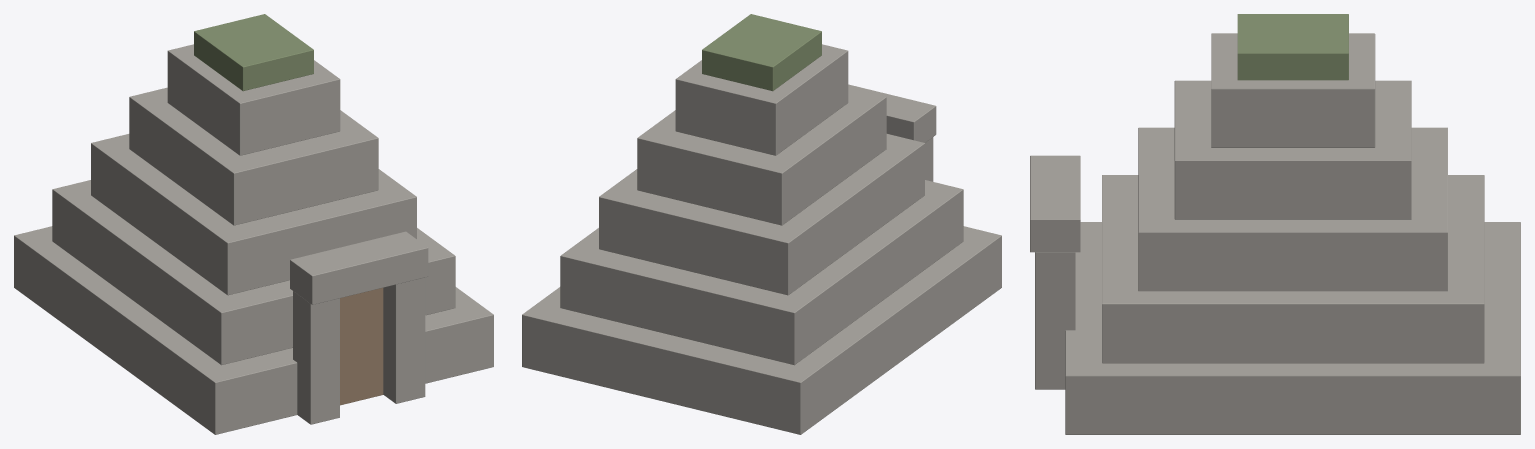
Rendered from House_Neo_c.glb.
3 renders of one model, left to right at view 1: azimuth 30°, elevation 25°; view 2: azimuth 150°, elevation 25°; view 3: azimuth 270°, elevation 25°, orthographic. The views are drawn at different scales.
Visible parts, largest first — view 1: House_Neo_c; view 2: House_Neo_c; view 3: House_Neo_c.
Boxes of the visible parts, <box> form: House_Neo_c: <box>14,14,493,434</box>; House_Neo_c: <box>522,14,1001,434</box>; House_Neo_c: <box>1030,14,1520,434</box>.
Size of what is drawn, in the model's own units: 3.6 by 3.54 by 4.85.
